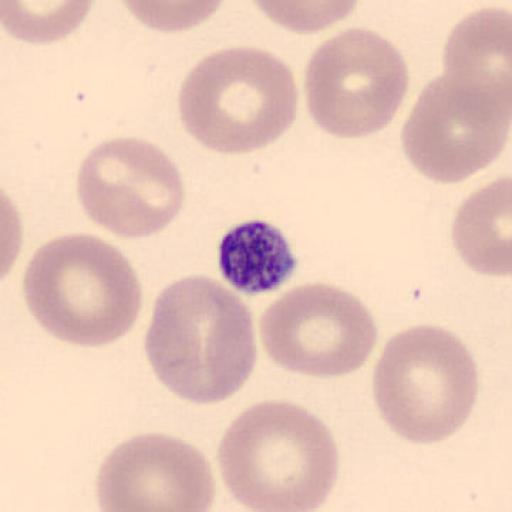Platelet: (215, 216, 300, 297)
RBC: (143, 274, 258, 408), (21, 231, 144, 349), (216, 397, 340, 511), (176, 44, 300, 156), (371, 322, 481, 446), (398, 72, 509, 185), (303, 26, 411, 140), (259, 281, 378, 379), (76, 136, 186, 242), (93, 431, 216, 512), (441, 6, 512, 117), (451, 176, 512, 278), (2, 0, 95, 45), (247, 0, 361, 35), (117, 0, 227, 34), (0, 186, 23, 286)
